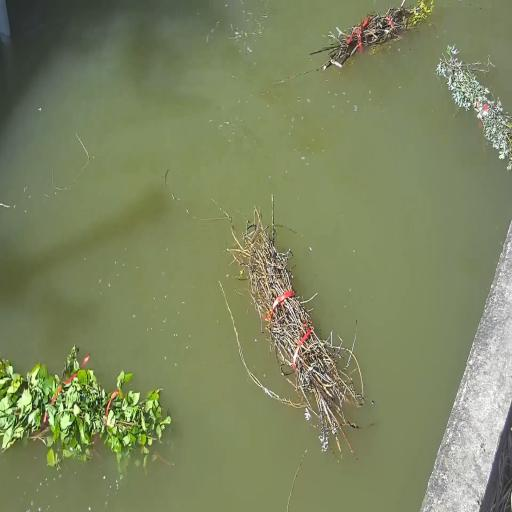twig: (227, 196, 363, 457), (0, 346, 170, 460), (436, 45, 512, 170), (310, 0, 434, 70)
